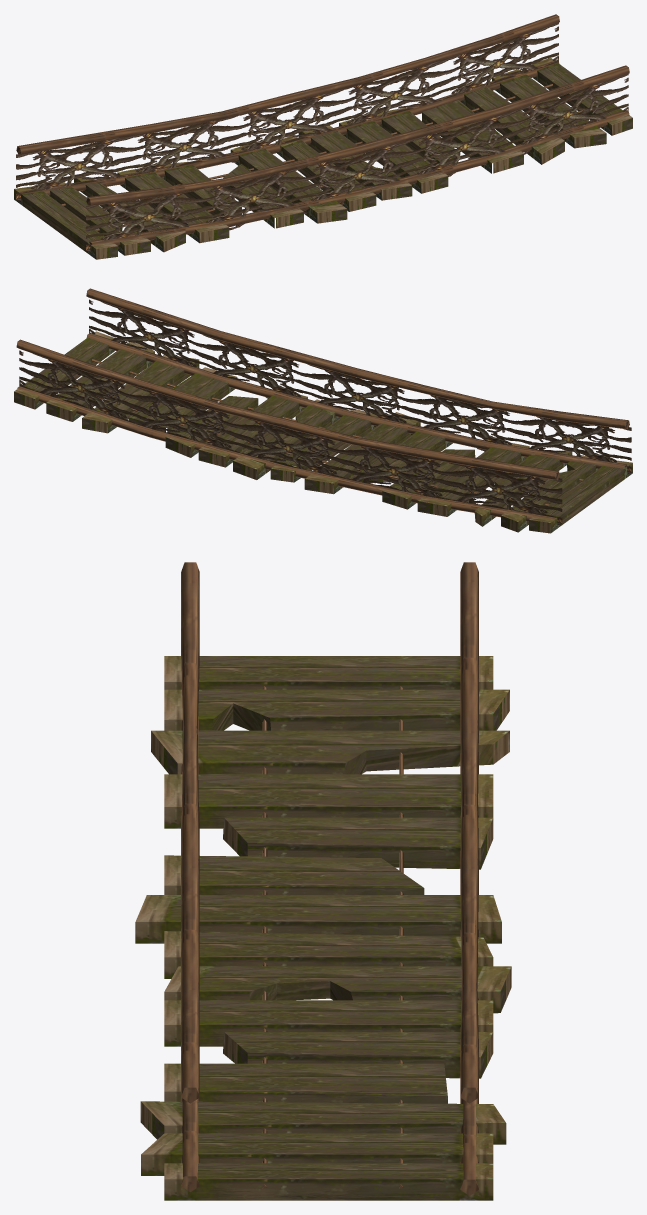
The model's file is F2_qiao_01.FBX.
3 renders of one model, top to bottom at view 1: azimuth 30°, elevation 25°; view 2: azimuth 150°, elevation 25°; view 3: azimuth 270°, elevation 25°, orthographic. The views are drawn at different scales.
Parts seen in each view (by area): view 1: Plane35, Plane36, Cylinder51, Cylinder47, Cylinder50; view 2: Plane35, Plane36, Cylinder51, Cylinder47, Cylinder50; view 3: Plane36, Cylinder51, Cylinder47, Cylinder50.
Boxes of the visible parts, x1,y1,x2,y2 form: Plane35: (16, 23, 628, 251); Plane36: (14, 57, 632, 259); Cylinder51: (16, 14, 629, 205); Cylinder47: (89, 110, 629, 245); Cylinder50: (20, 61, 559, 195); Plane35: (19, 299, 631, 524); Plane36: (14, 331, 632, 533); Cylinder51: (16, 288, 629, 480); Cylinder47: (86, 333, 627, 468); Cylinder50: (17, 386, 556, 521); Plane36: (135, 656, 511, 1200); Cylinder51: (181, 562, 478, 1103); Cylinder47: (181, 685, 199, 1192); Cylinder50: (460, 752, 478, 1195).
Bounding box in the file's own units: 913 × 115 × 274.
